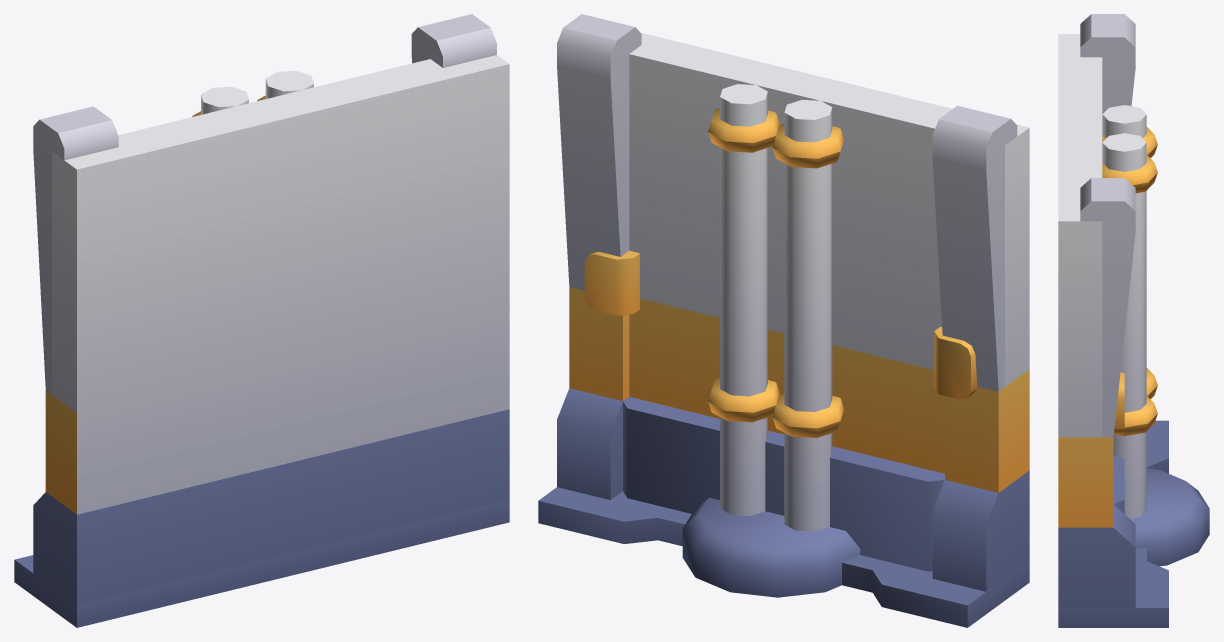
The model's file is os_wall_panel.glb.
3 views of the same model, side by side, from view 1: azimuth 30°, elevation 25°; view 2: azimuth 150°, elevation 25°; view 3: azimuth 270°, elevation 25° (orthographic). The views are drawn at different scales.
Parts seen in each view (by area): view 1: template-wall-detail-a; view 2: template-wall-detail-a; view 3: template-wall-detail-a.
Boxes of the visible parts, box(x1,y1,x2,y2) form: template-wall-detail-a: box(14, 14, 509, 627); template-wall-detail-a: box(538, 14, 1029, 627); template-wall-detail-a: box(1058, 14, 1209, 627).
Bounding box in the file's own units: 3.76 × 3.99 × 1.29.
1 material, 1 textured.
